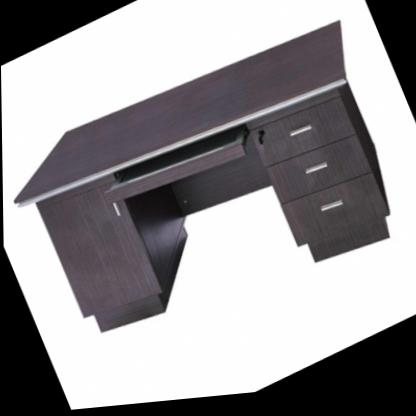Table: (0, 0, 416, 405)
